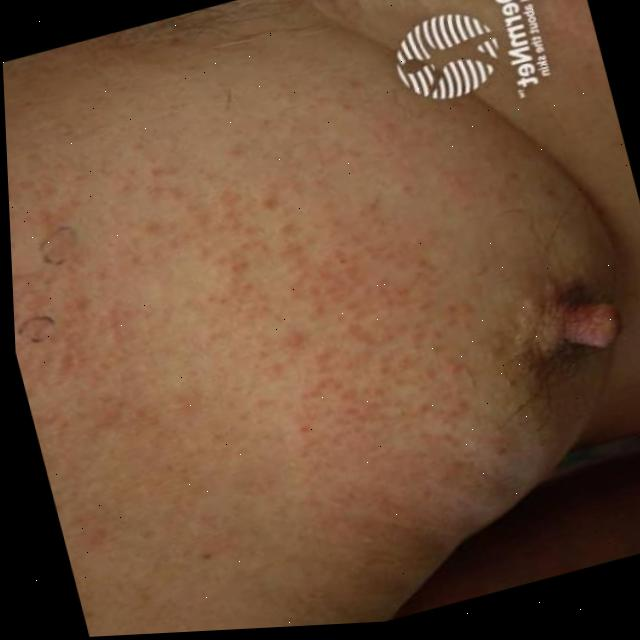Eczema: (103, 91, 475, 533)
